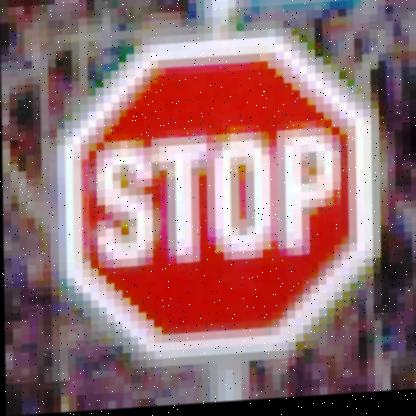Stop Sign: (60, 28, 381, 368)
